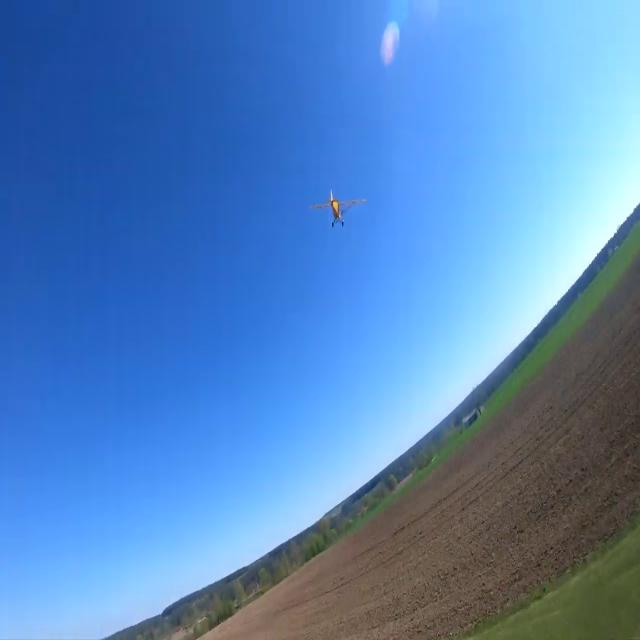iha: (335, 188, 337, 230)
